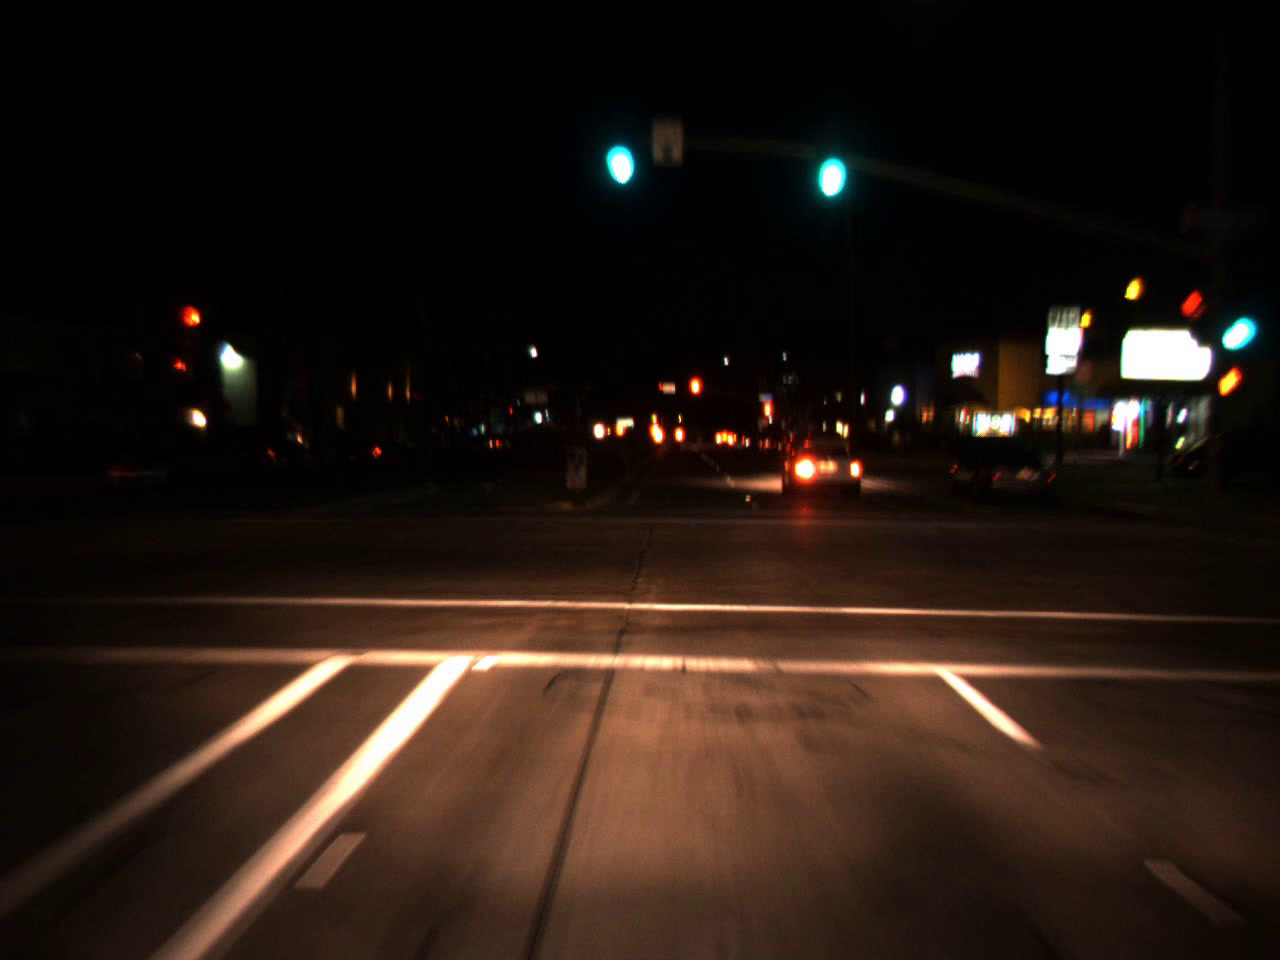go: (805, 121, 851, 208), (595, 114, 640, 192), (1212, 289, 1255, 358)
stop: (687, 375, 703, 415), (763, 398, 773, 441)
